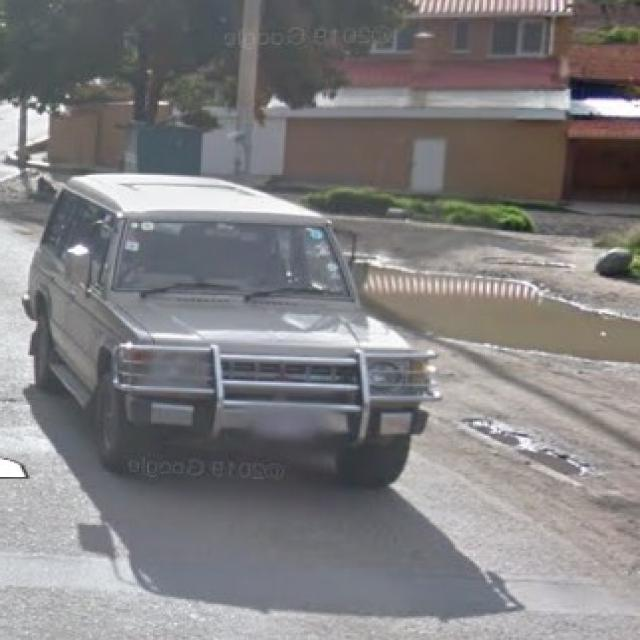car: (22, 171, 444, 486)
